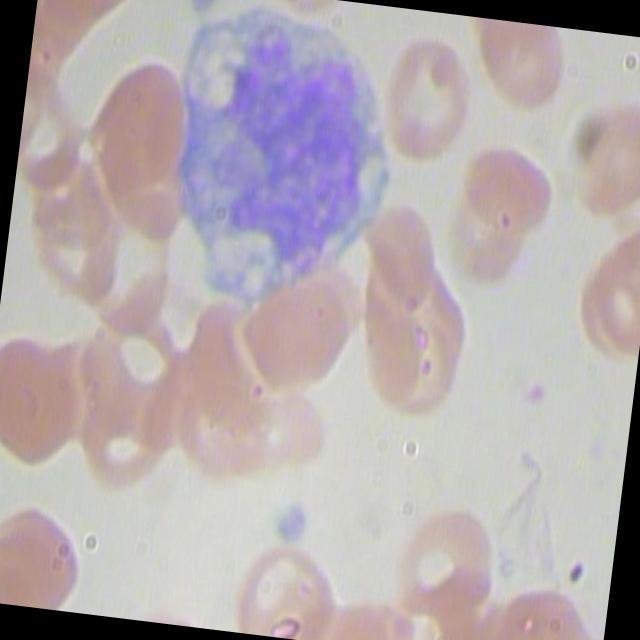Platelets: (262, 490, 314, 546)
RBC: (74, 51, 194, 206), (371, 21, 483, 186), (236, 258, 356, 412), (374, 487, 500, 633), (362, 274, 488, 420), (68, 370, 194, 504), (0, 322, 98, 476), (0, 486, 109, 613), (451, 119, 564, 240), (550, 89, 640, 230), (460, 17, 574, 126), (354, 184, 444, 322), (226, 536, 345, 640), (561, 216, 640, 358)
WBC: (145, 0, 398, 323)
